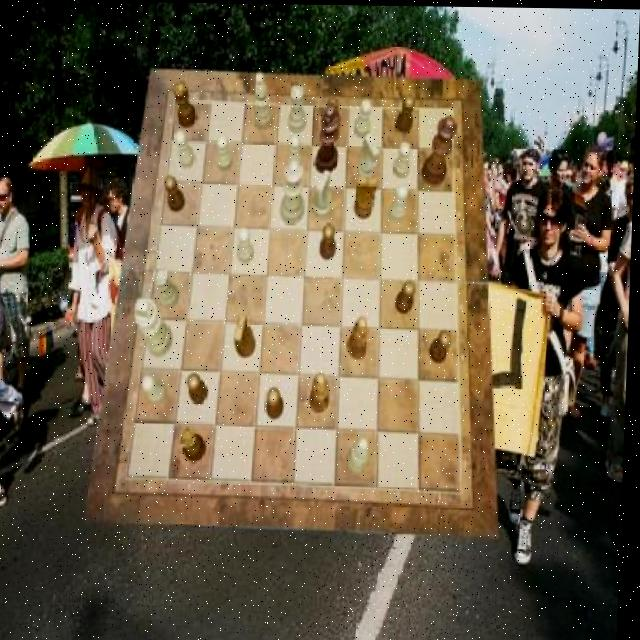bishop: (350, 315, 372, 359), (311, 371, 332, 411)
black-bishop: (316, 102, 342, 175)
black-king: (235, 313, 259, 358), (355, 175, 378, 219)
black-knight: (164, 174, 187, 211), (432, 328, 455, 362), (396, 94, 416, 133), (397, 280, 418, 314), (188, 373, 211, 404), (325, 96, 342, 137), (321, 222, 338, 259), (269, 388, 287, 421)
black-pawn: (421, 114, 459, 185)
black-queen: (172, 81, 197, 129), (181, 427, 209, 462)
black-rook: (253, 71, 275, 128), (349, 435, 373, 473)
white-bishop: (135, 297, 174, 356)
white-king: (358, 134, 381, 183), (312, 170, 334, 219)
white-knight: (176, 130, 198, 169), (390, 183, 410, 221), (144, 374, 169, 404), (393, 140, 412, 178), (353, 98, 371, 137), (215, 133, 233, 171), (238, 227, 256, 264), (287, 133, 304, 171)
white-pawn: (280, 159, 306, 224)
white-queen: (154, 265, 181, 307), (288, 83, 307, 133)
